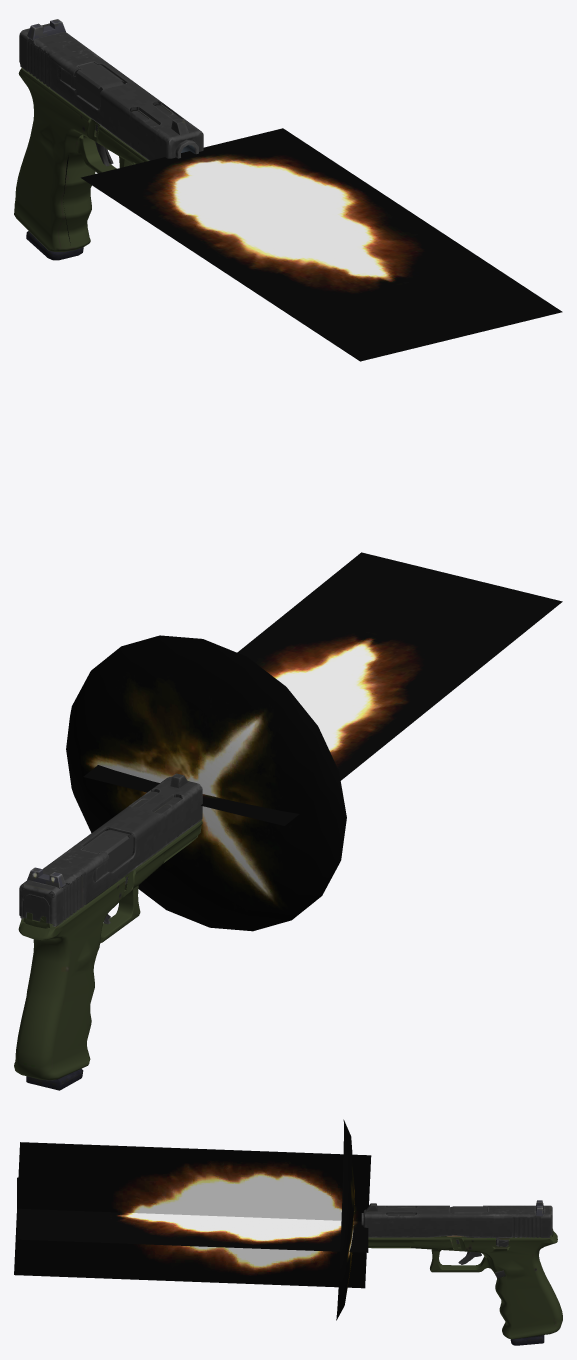
File: Glock.glb
3 renders of one model, top to bottom at view 1: azimuth 30°, elevation 25°; view 2: azimuth 150°, elevation 25°; view 3: azimuth 270°, elevation 25°, orthographic. The views are drawn at different scales.
Parts seen in each view (by area): view 1: MuzzleFlash, Glock_upd_main (×3), Glock_upd_slider (×2); view 2: MuzzleFlash, Glock_upd_main (×3), Glock_upd_slider (×2); view 3: MuzzleFlash, Glock_upd_main (×3), Glock_upd_slider (×3).
Boxes of the visible parts, x1,y1,x2,y2 form: MuzzleFlash: (63,128,562,361); Glock_upd_main (×3): (14,68,198,251); Glock_upd_slider (×2): (19,19,203,160); MuzzleFlash: (66,552,562,931); Glock_upd_main (×3): (14,820,202,1080); Glock_upd_slider (×2): (19,773,202,926); MuzzleFlash: (14,1119,371,1320); Glock_upd_main (×3): (361,1213,562,1339); Glock_upd_slider (×3): (363,1200,552,1237).
Size of the model in its own units: 0.1744 by 0.2001 by 0.4679.
2 materials, 2 textured.
